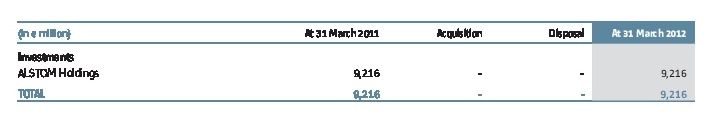table: (0, 0, 713, 118)
